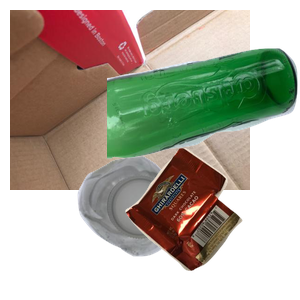cardboard: (10, 10, 250, 190)
glass: (107, 46, 300, 197)
plastic: (75, 154, 248, 300)
trash: (123, 145, 300, 300)
